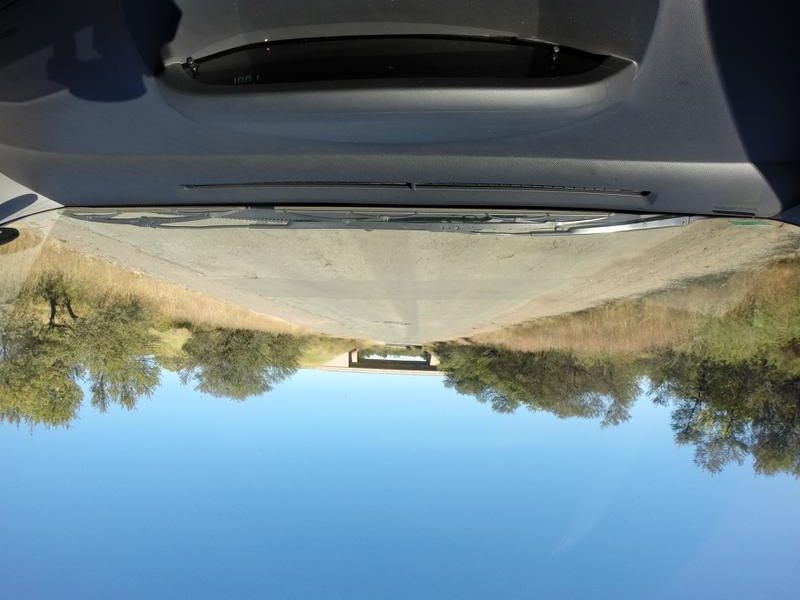pothole: (373, 316, 416, 330), (239, 271, 260, 282), (496, 251, 518, 261), (318, 258, 336, 269)
